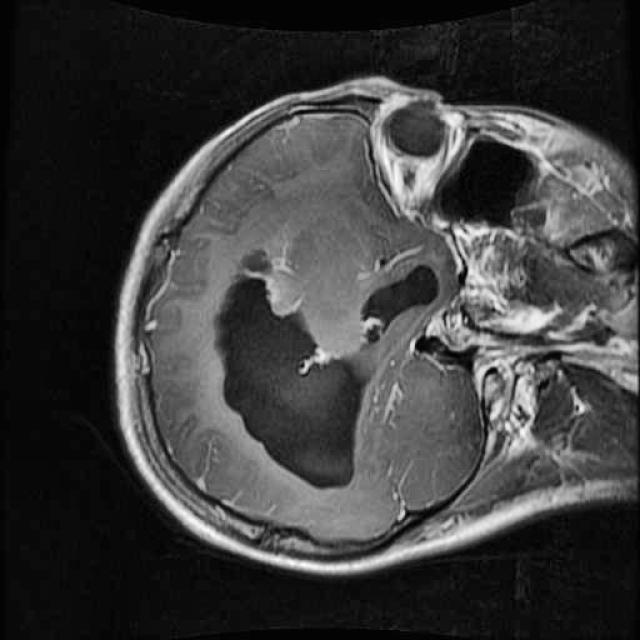Tumor: (203, 224, 452, 512)
